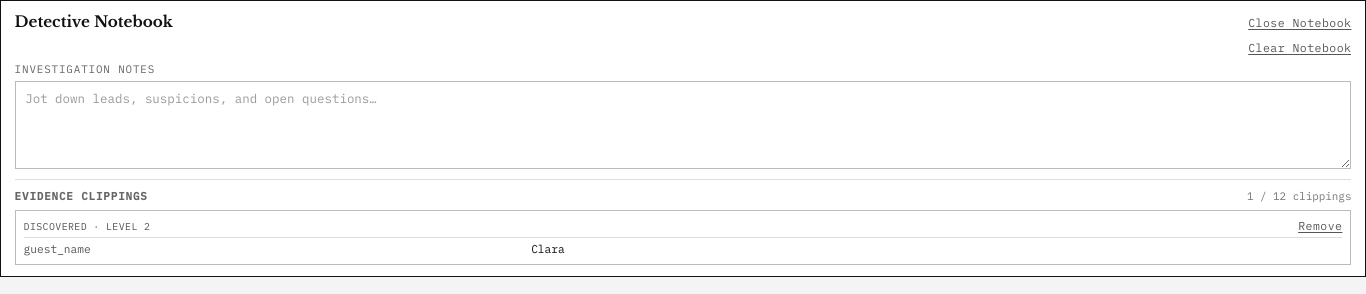
Test case: DetectiveNotebook › exposes accessible labels for notebook controls
Expected: the text box labelled "Investigation notes" is shown, x1=15 y1=81 x2=1351 y2=169
Expected: the button with aria-label "Clear notebook notes and evidence clippings" is shown, x1=1248 y1=40 x2=1351 y2=55
Click the button with aria-label "Close Detective Notebook".
click(1300, 23)  # box x1=1248 y1=15 x2=1351 y2=30
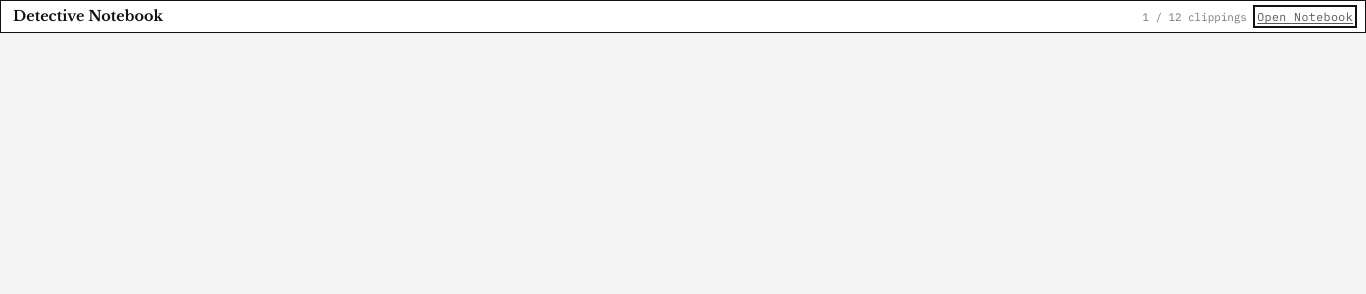
Result: the button with aria-label "Open Detective Notebook" is shown at x1=1257 y1=9 x2=1353 y2=24
